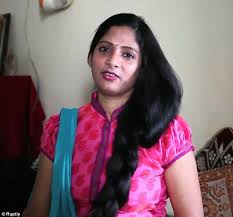indian_female: (72, 6, 168, 111)
